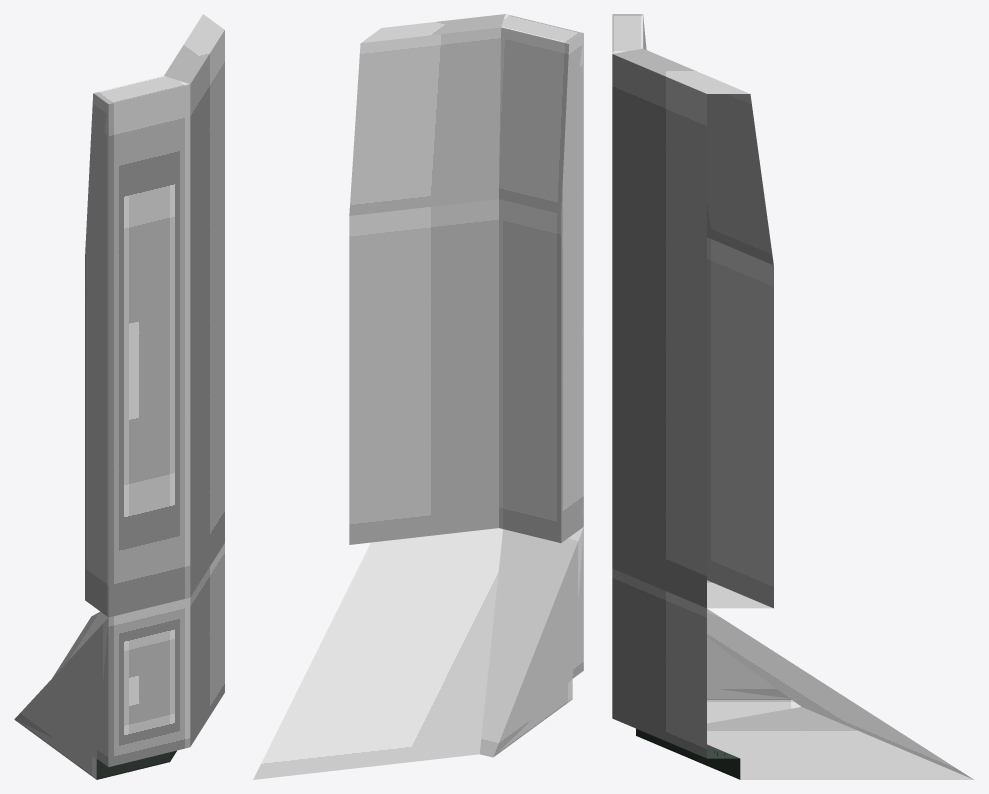
File: run_tall_inside_bend_a_item.obj
3 views of the same model, side by side, from view 1: azimuth 30°, elevation 25°; view 2: azimuth 150°, elevation 25°; view 3: azimuth 270°, elevation 25° (orthographic). The views are drawn at different scales.
Bounding box in the file's own units: 1 × 4 × 1.91.
